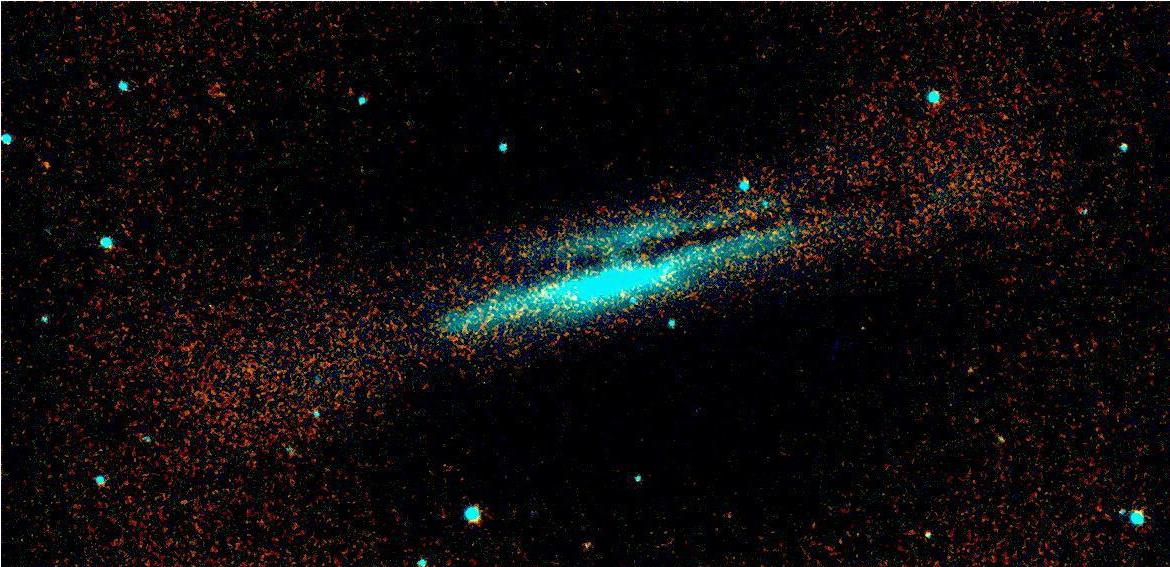star: (25, 146, 55, 176)
